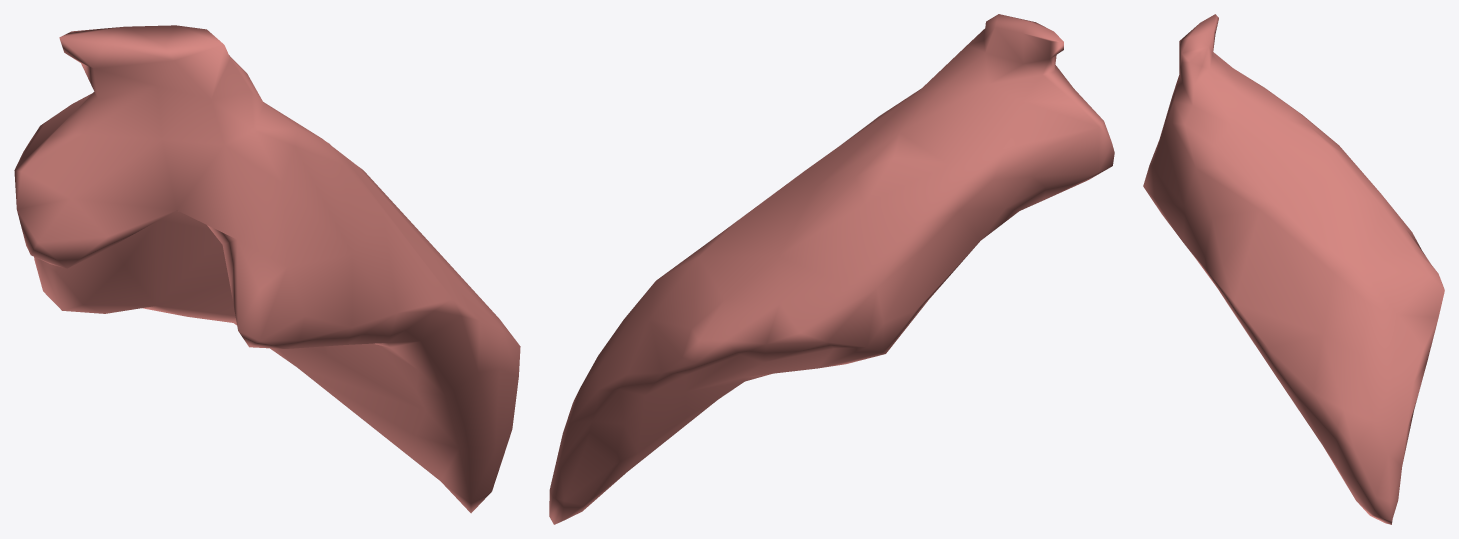
File: fma81562_mm1330.glb
The picture shows the model from 3 angles, left to right: view 1: azimuth 30°, elevation 25°; view 2: azimuth 150°, elevation 25°; view 3: azimuth 270°, elevation 25°; orthographic projection. The views are drawn at different scales.
Parts seen in each view (by area): view 1: FMA81562_MM1330; view 2: FMA81562_MM1330; view 3: FMA81562_MM1330.
Boxes of the visible parts, <box> form: FMA81562_MM1330: <box>14,25,520,513</box>; FMA81562_MM1330: <box>549,14,1114,524</box>; FMA81562_MM1330: <box>1143,14,1444,524</box>.
Size of the model in its own units: 0.00947 by 0.0101 by 0.00752.
